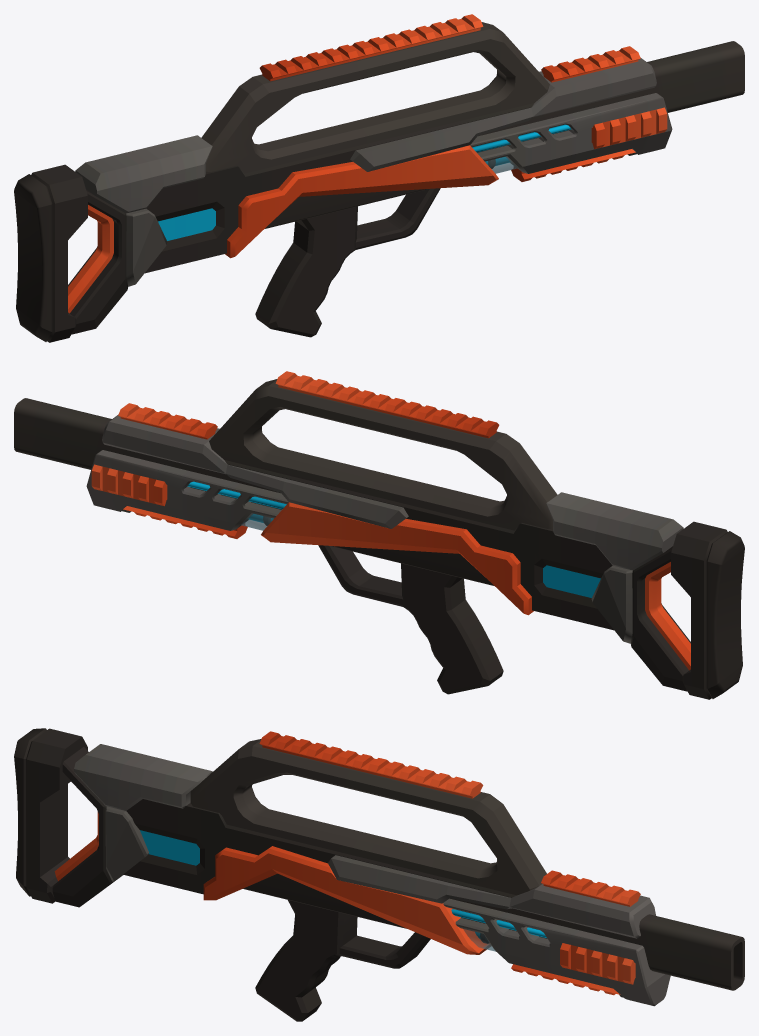
The picture shows the model from 3 angles, top to bottom: view 1: azimuth 30°, elevation 25°; view 2: azimuth 150°, elevation 25°; view 3: azimuth 330°, elevation 25°; orthographic projection.
Parts seen in each view (by area): view 1: AR7_Base; view 2: AR7_Base; view 3: AR7_Base.
Boxes of the visible parts, bbox=[...] form: AR7_Base: bbox=[14, 14, 744, 342]; AR7_Base: bbox=[14, 371, 744, 699]; AR7_Base: bbox=[14, 728, 744, 1021].
Size of the model in its own units: 78.87 by 28.83 by 7.01.
